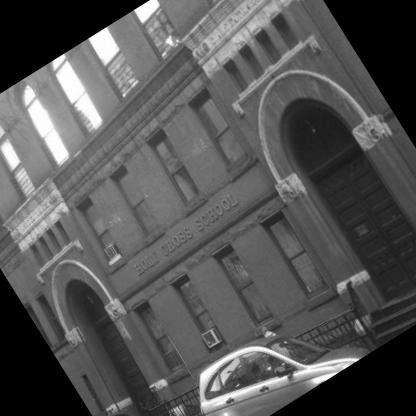car: (157, 269, 382, 416), (87, 367, 205, 416)
